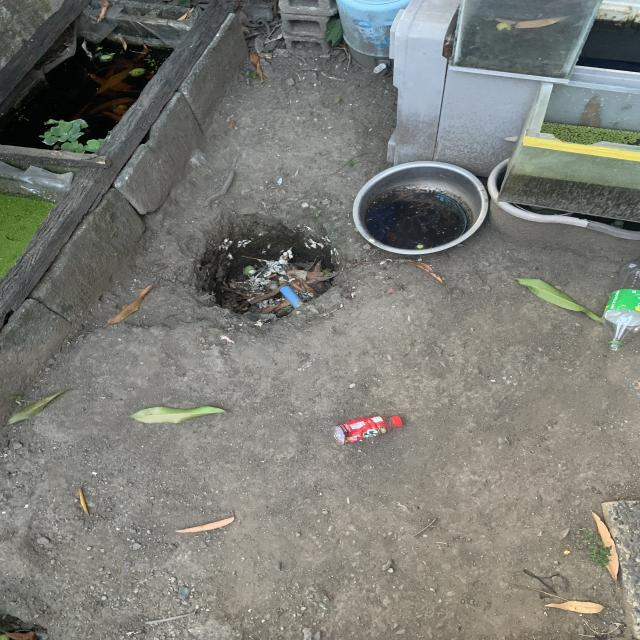Bottle: (334, 416, 402, 444)
